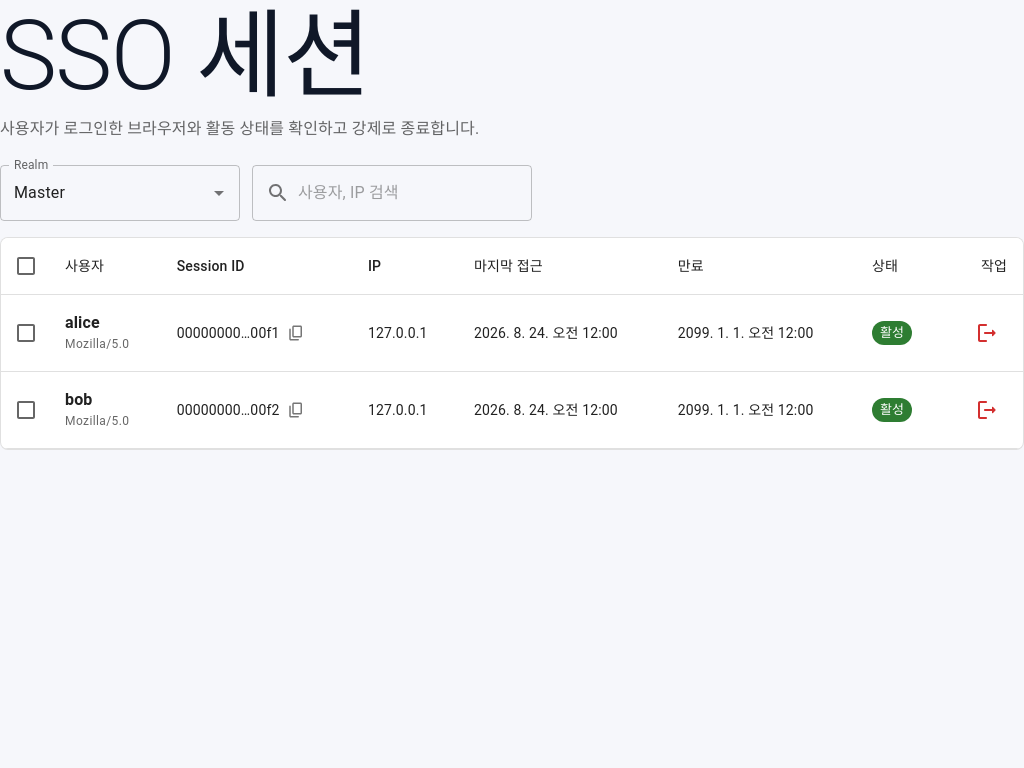
Test case: 일부만 실패하면 몇 개가 남았는지 말한다
Expected: the text "alice" is shown, [65,313,100,332]
What coordinates should you click on to do the following:
click the checkbox named "표시된 활성 세션 모두 선택"
I would click on:
 (26, 266)
Its box is [14,254,38,278].
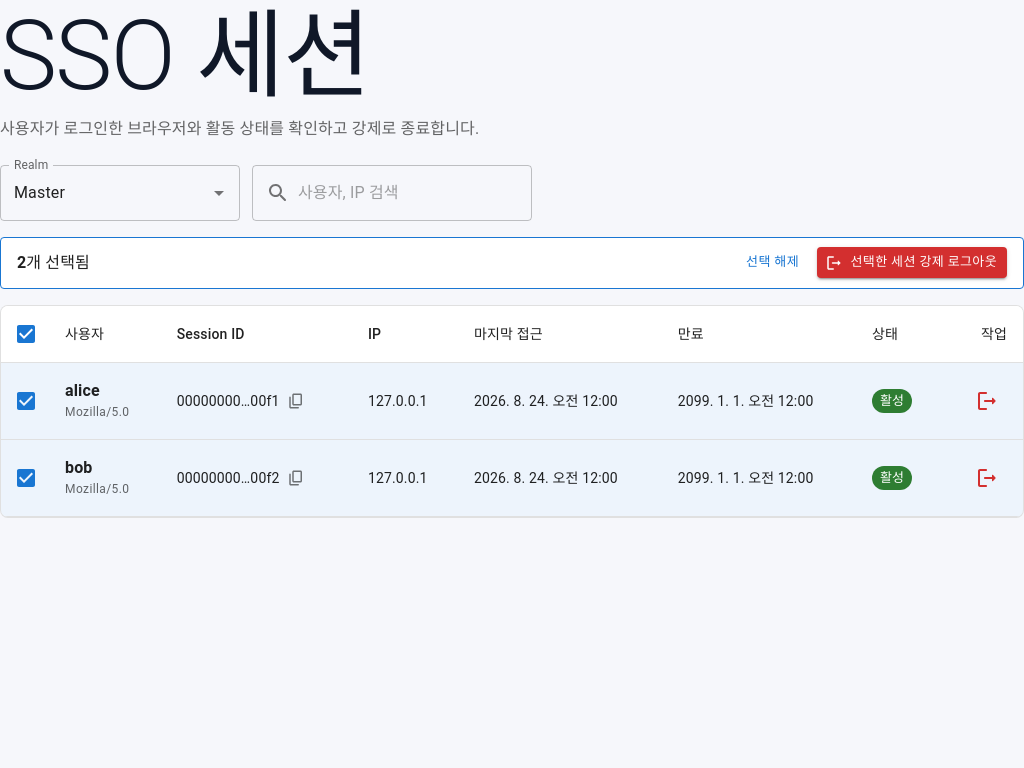
What coordinates should you click on to do the following:
click the button "선택한 세션 강제 로그아웃"
I would click on:
 (912, 263)
Its box is [816,247,1007,278].
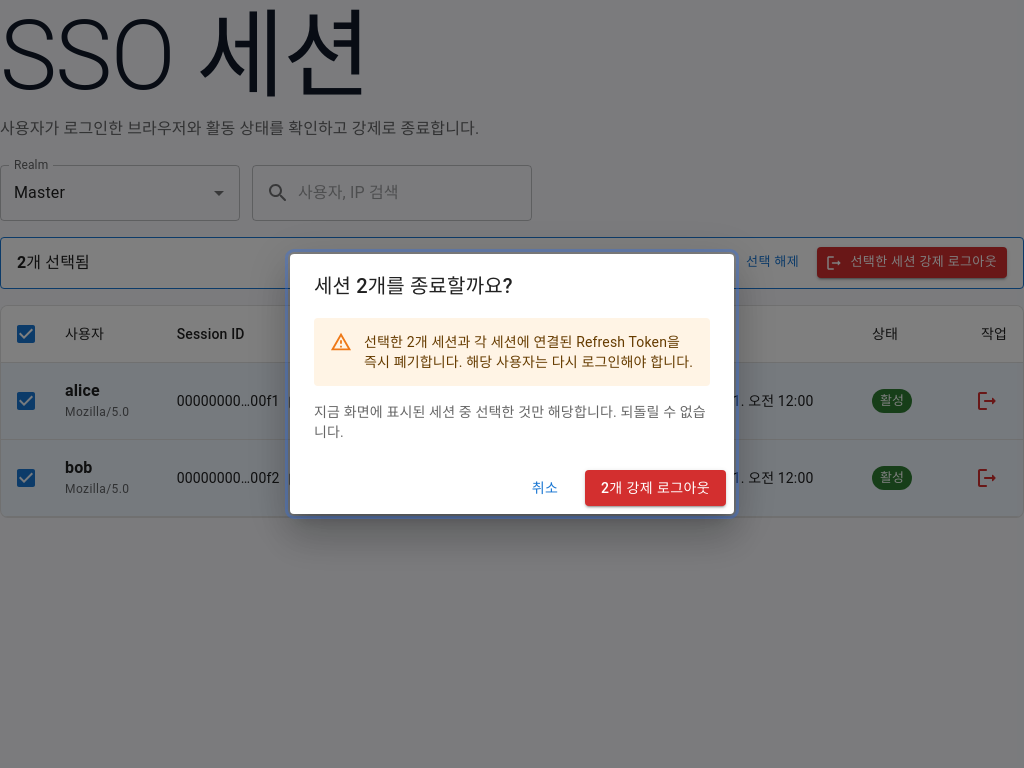
What coordinates should you click on to do the following:
click the button "2개 강제 로그아웃"
I would click on:
 (655, 488)
Its box is [585,470,726,506].
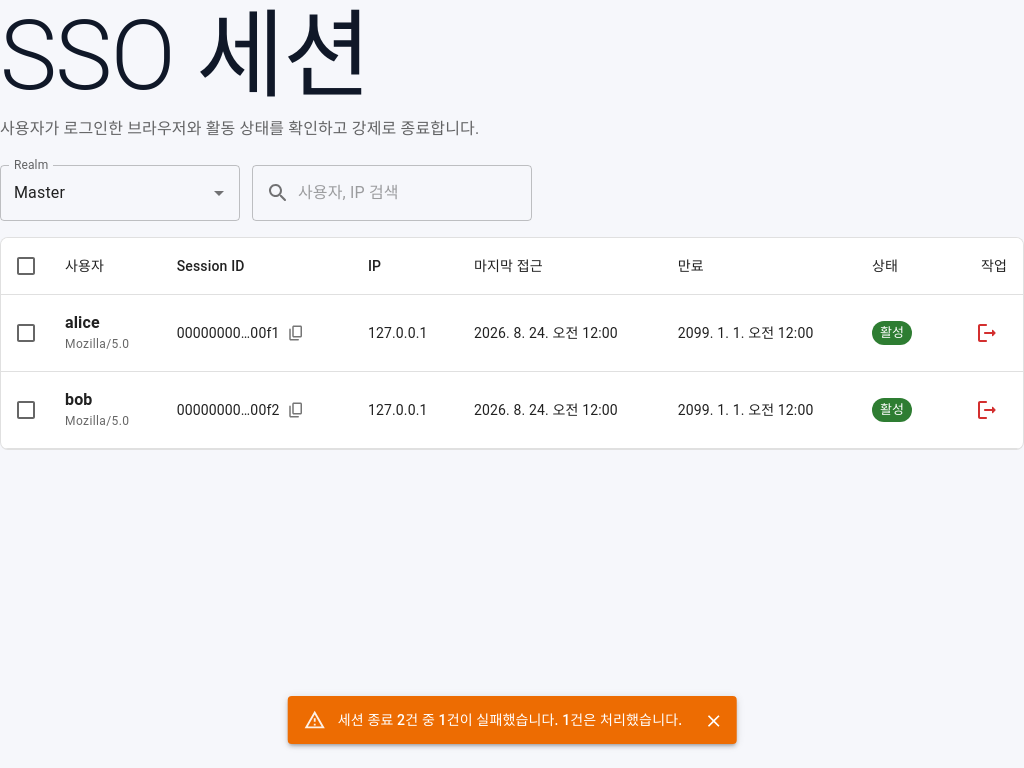
Now the text "세션 종료 2건 중 1건이 실패했습니다. 1건은 처리했습니다." is shown, box [338,712,682,728]
